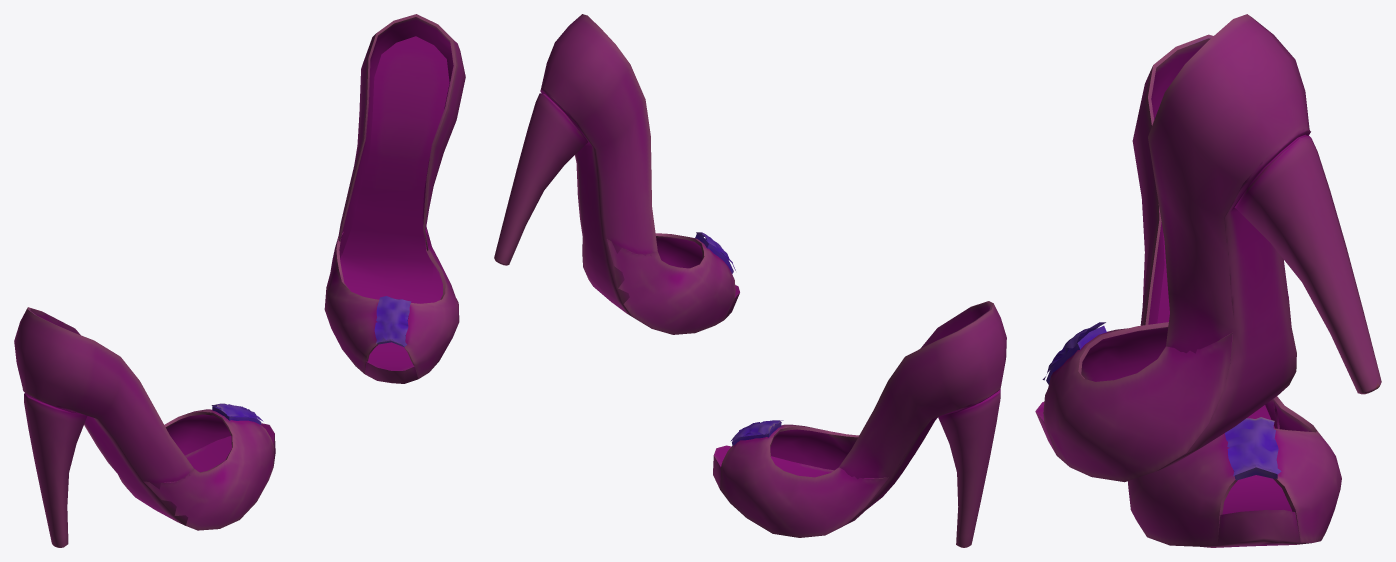
File: BellyB.fbx
3 views of the same model, side by side, from view 1: azimuth 30°, elevation 25°; view 2: azimuth 150°, elevation 25°; view 3: azimuth 270°, elevation 25° (orthographic). The views are drawn at different scales.
Visible parts, largest first — view 1: BellyB; view 2: BellyB; view 3: BellyB.
Part boxes in pixels (x1,y1,x2,y2): BellyB: (14,14,465,547); BellyB: (494,14,1006,547); BellyB: (1035,14,1381,547).
Size of the model in its own units: 42.26 by 39.46 by 18.33.
